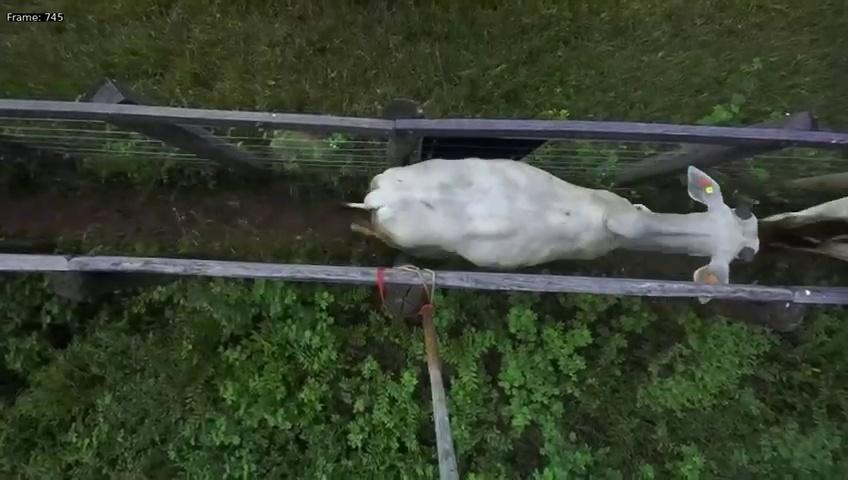cattle: (338, 134, 761, 284)
